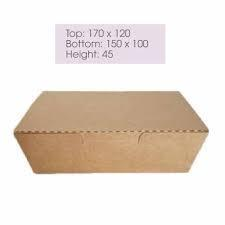box: (12, 92, 209, 175)
